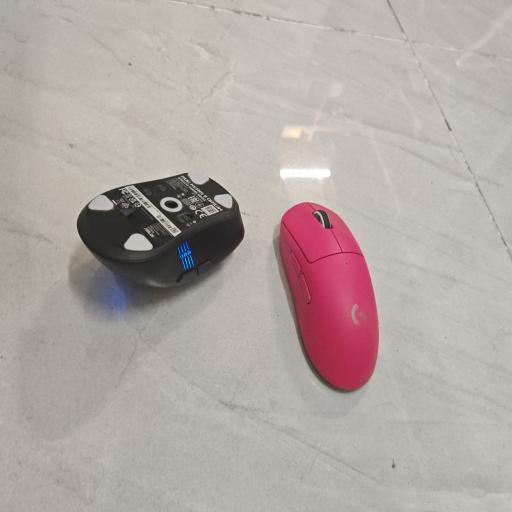mouse: (77, 172, 244, 287), (280, 202, 378, 390)
